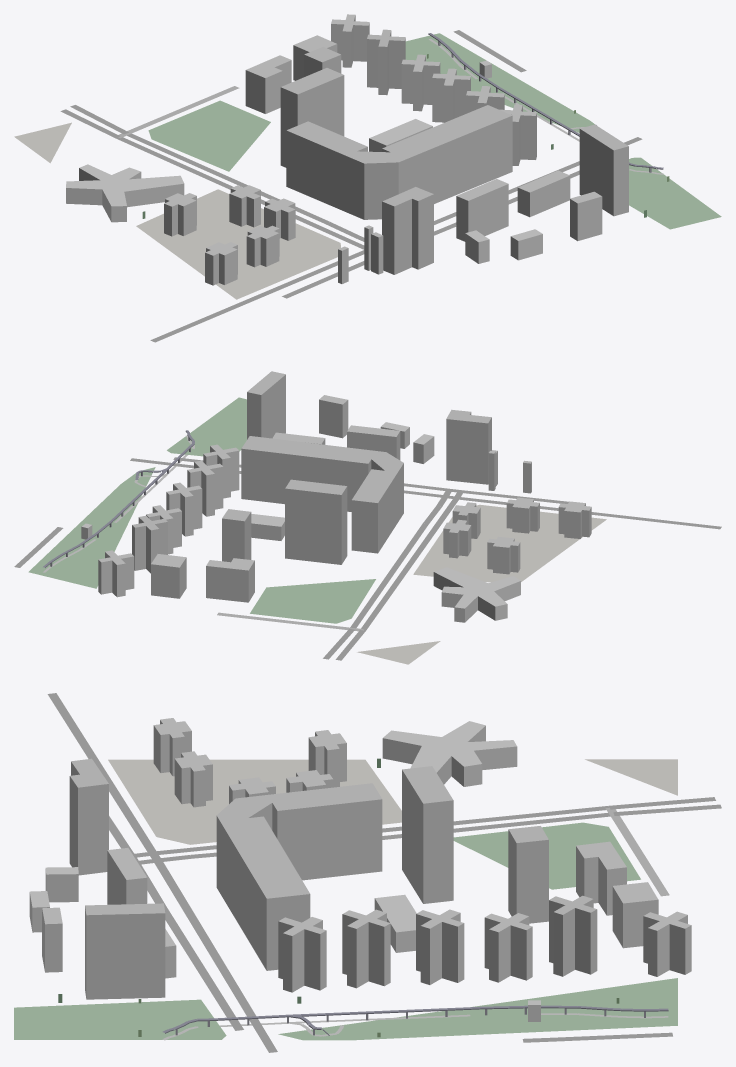
The picture shows the model from 3 angles, top to bottom: view 1: azimuth 30°, elevation 25°; view 2: azimuth 150°, elevation 25°; view 3: azimuth 270°, elevation 25°; orthographic projection. The views are drawn at different scales.
Bounding box in the file's own units: 641 × 84.16 × 533.
